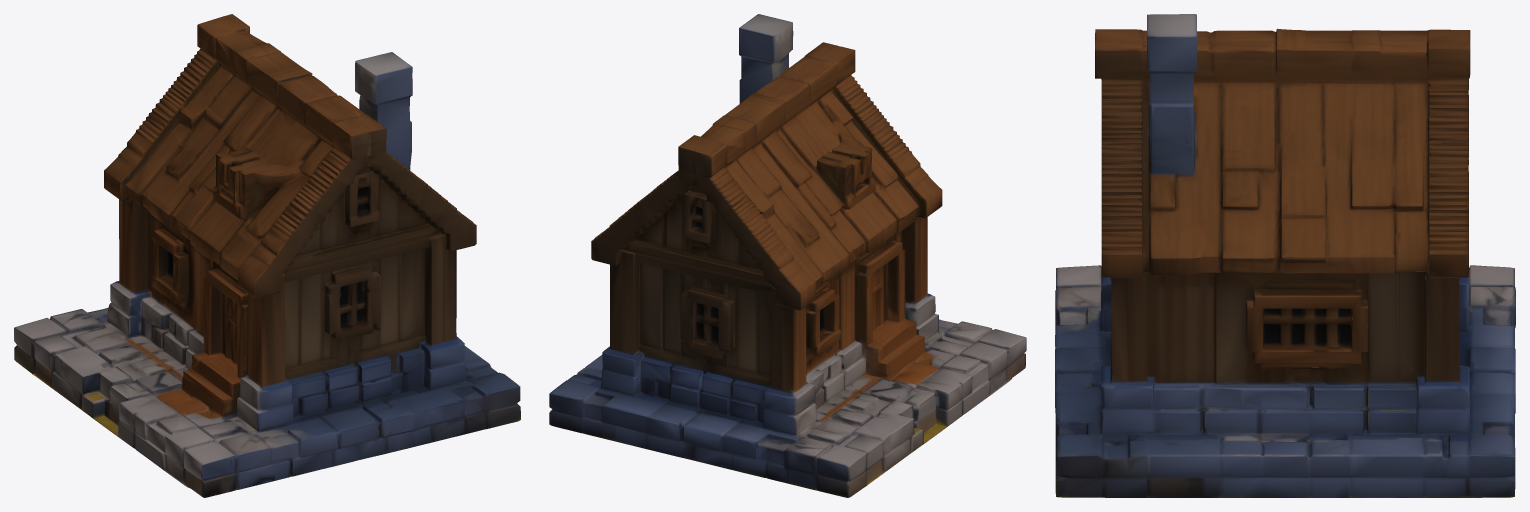
The model's file is village _house_t1.glb.
3 views of the same model, side by side, from view 1: azimuth 30°, elevation 25°; view 2: azimuth 150°, elevation 25°; view 3: azimuth 270°, elevation 25° (orthographic). The views are drawn at different scales.
Parts seen in each view (by area): view 1: node_0; view 2: node_0; view 3: node_0.
Boxes of the visible parts, bbox=[...] form: node_0: bbox=[14, 14, 520, 497]; node_0: bbox=[549, 14, 1026, 497]; node_0: bbox=[1055, 14, 1515, 497].
Size of the model in its own units: 0.6828 by 0.7046 by 0.7008.
1 material, 1 textured.
